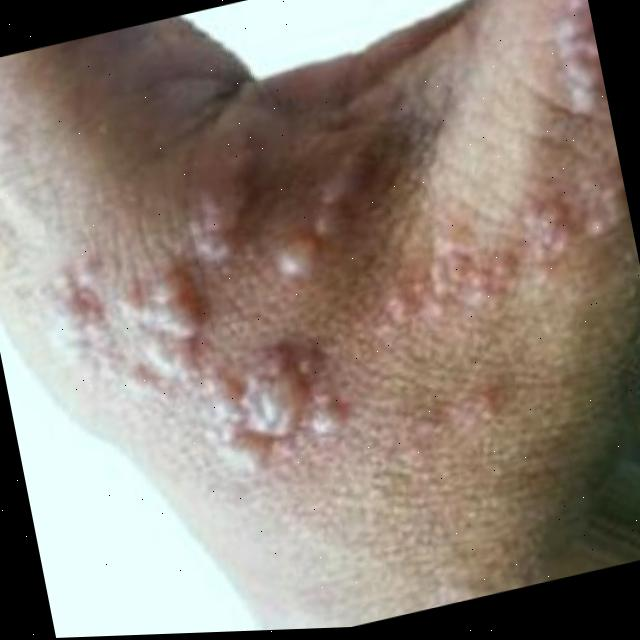Shingles: (12, 0, 640, 519)
